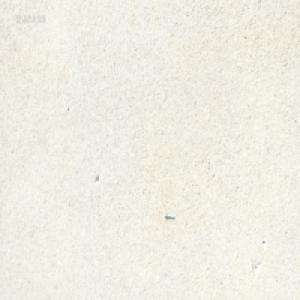Nail: (164, 213, 175, 220)
